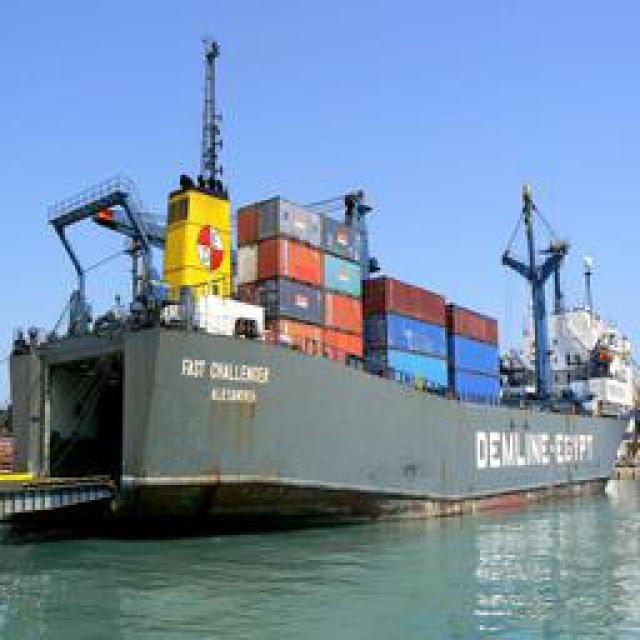Ship: (6, 180, 634, 530)
